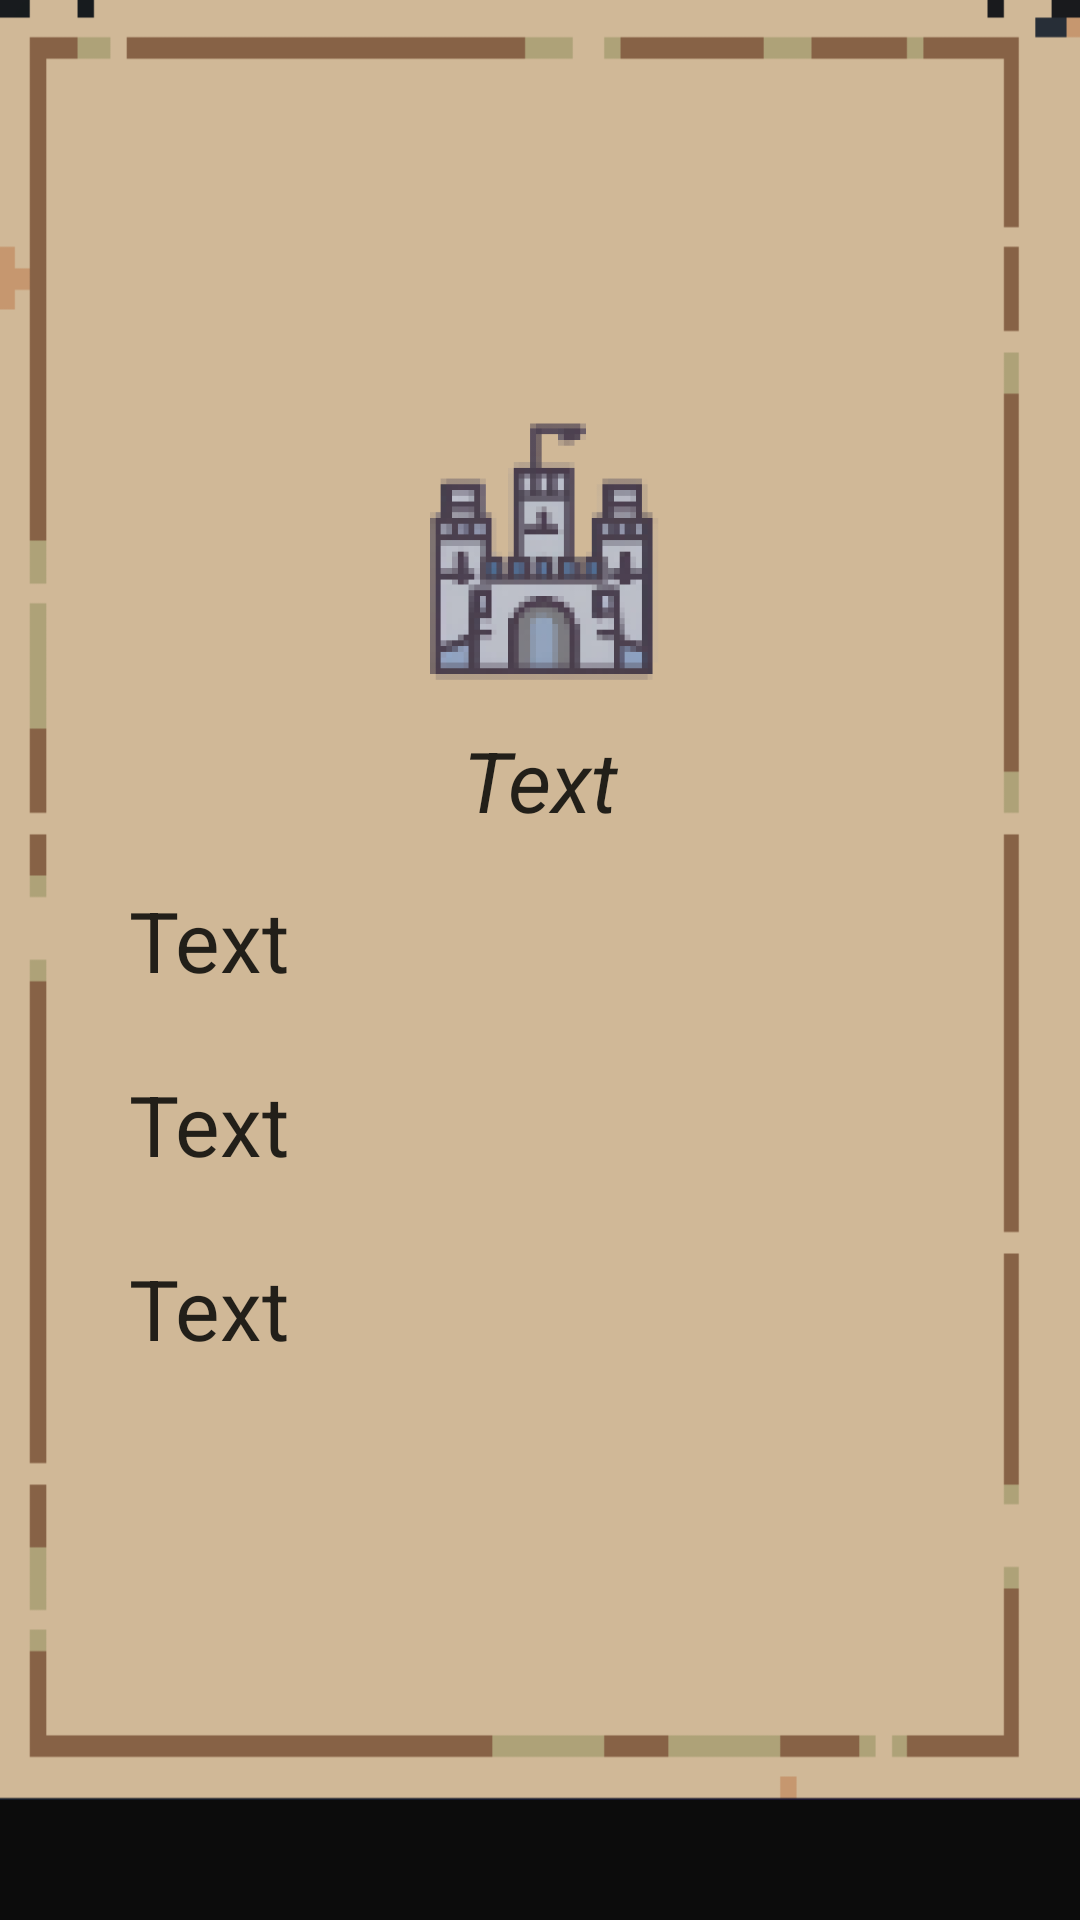

Named icons in this screenshot (1080px x 1920px) and their centers, (x,y):
castle: (541,551)
